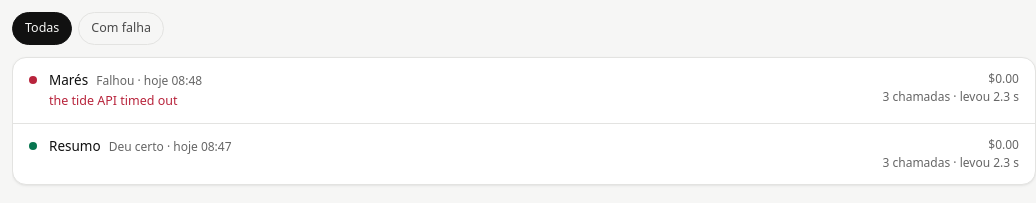
Test: RunHistory › lists every run and filters the failed ones
This screenshot has width=1036, height=203.
expect the text "the tide API timed out" is shown: met, box [49,92,178,109]
expect the text "3 chamadas · levou 2.3 s" is shown 2 times: met, box [882,88,1019,106]; [882,154,1019,172]
Click the button "Com falha": (121, 28) [78,12,164,45]
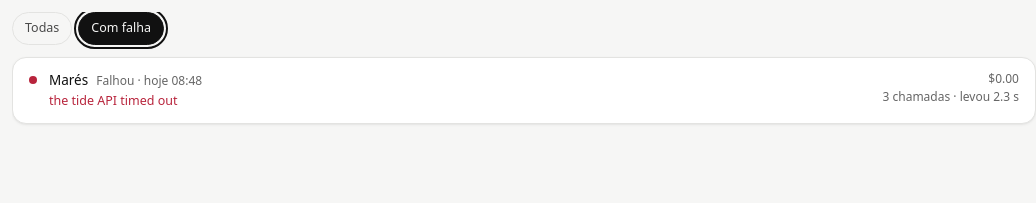
expect the link "Resumo" is gone: met
